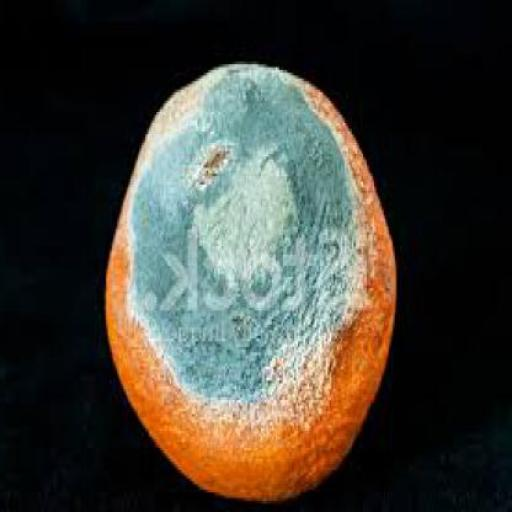biodegradable: (108, 58, 398, 498)
